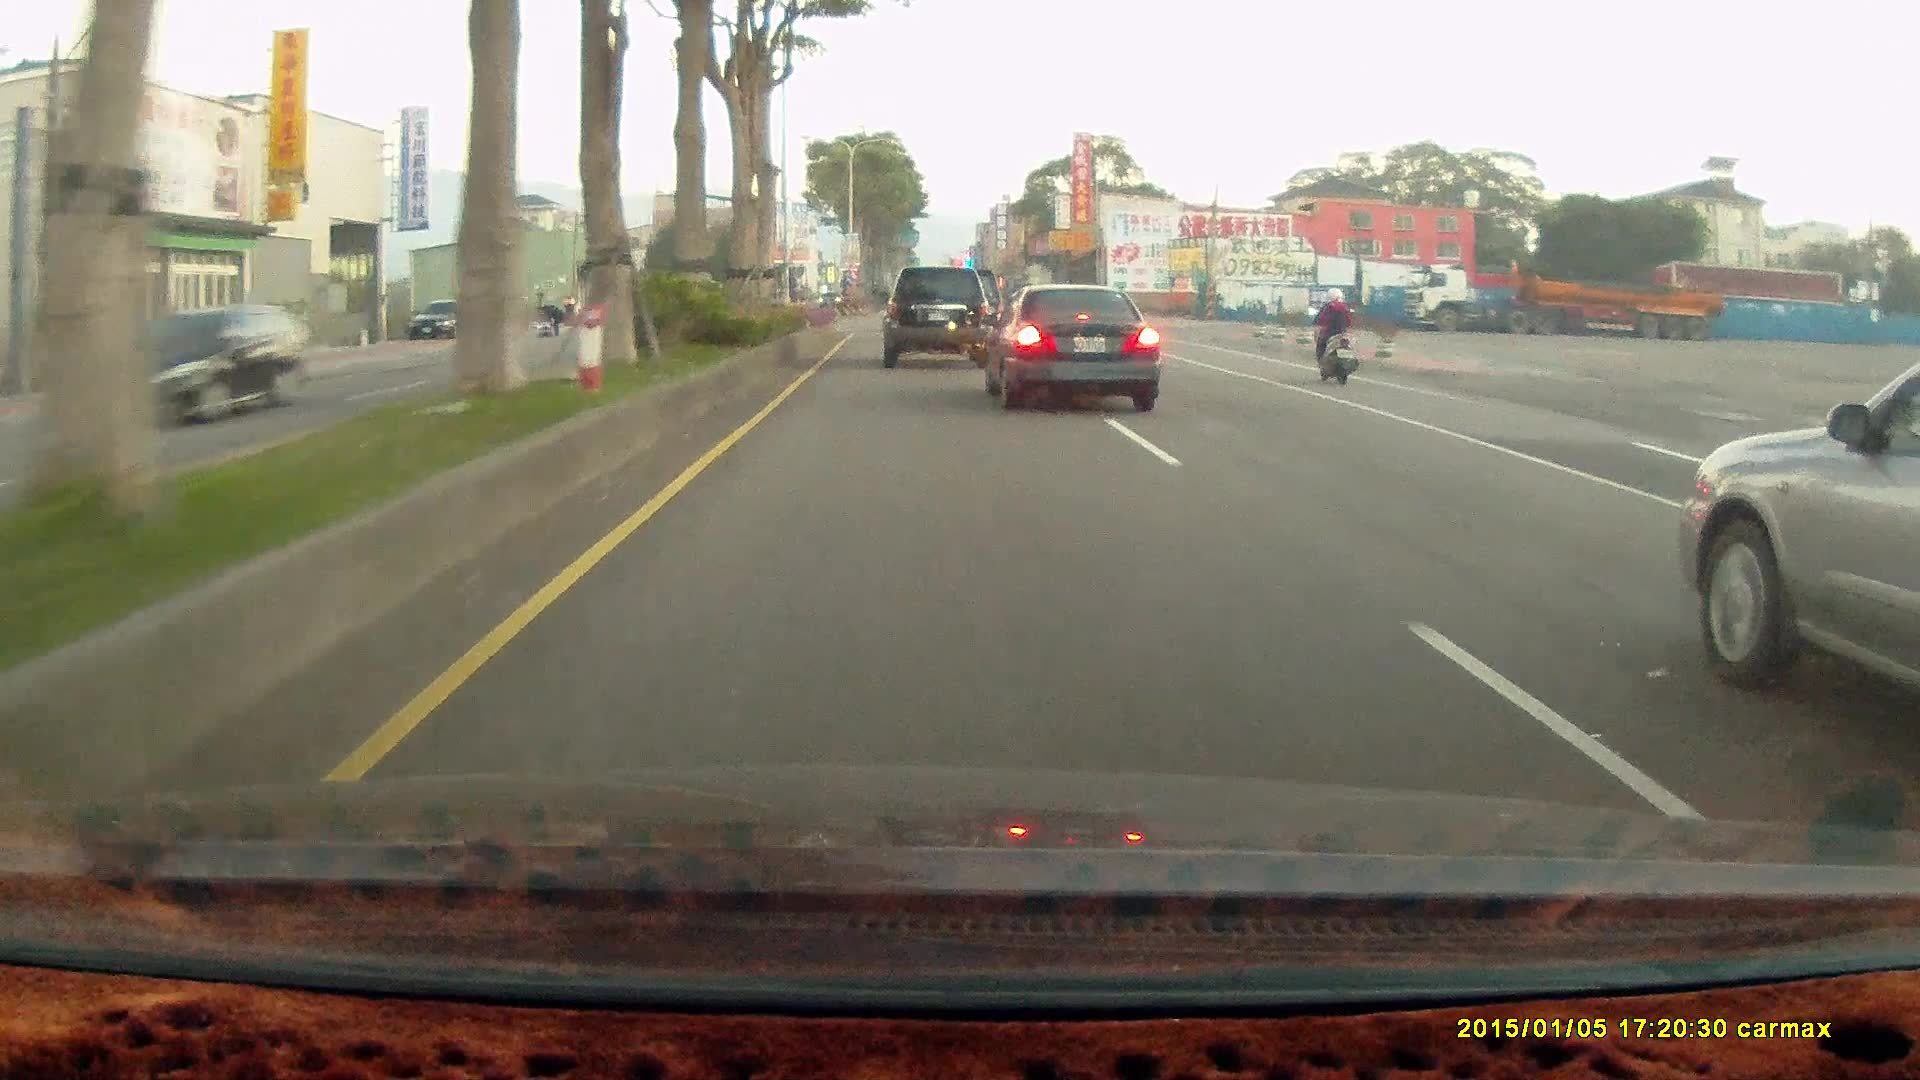pedestrian: (536, 301, 562, 335)
rider: (1301, 280, 1369, 392), (1305, 282, 1359, 382)
vehicle: (1676, 364, 1920, 726), (96, 300, 298, 428), (1399, 264, 1721, 340), (980, 280, 1160, 411), (986, 281, 1161, 404), (880, 262, 1001, 365), (878, 262, 992, 362), (407, 298, 475, 339)
